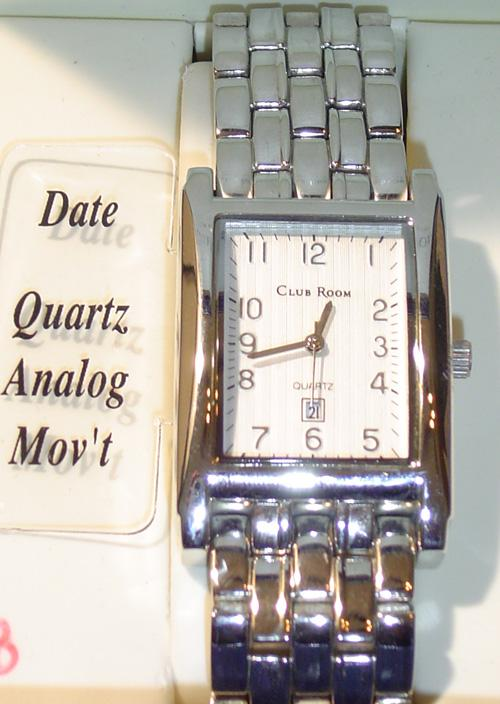watch: (155, 160, 455, 569)
